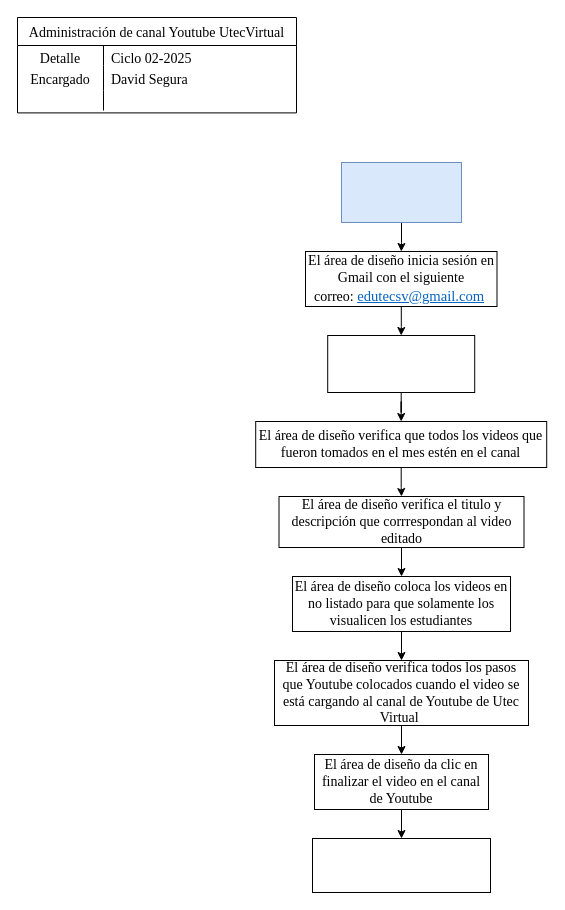
Image size: 565x910. Some labels were removed from this diagram. The shapes that lost their labels are listed below. From the top down, each one's centre as x and y in pixels, then its label:
At (x=401, y=192): "Administración de canal Youtube Utec Virtual".
At (x=401, y=363): "El área de diseño se encarga de subir archivo MP4 de clase".
At (x=401, y=865): "El área de diseño comparte el link a la persona que necesita el video".
